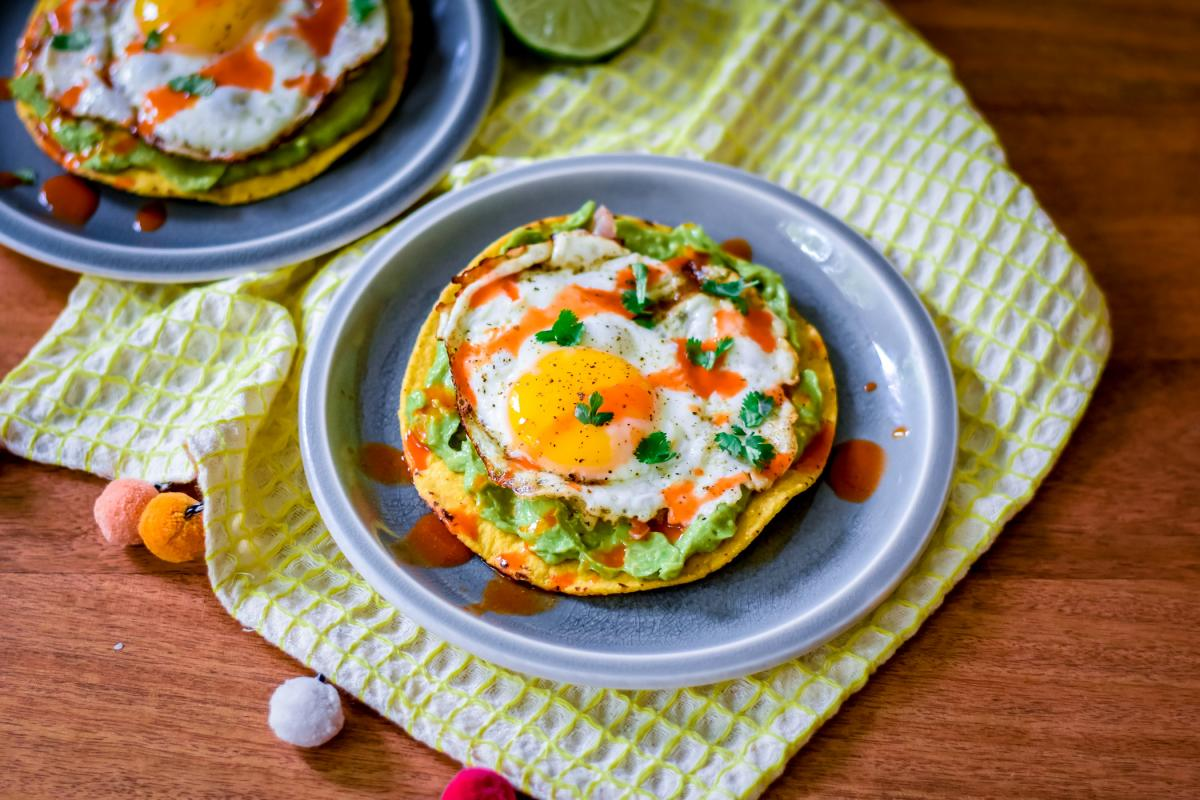fried egg: (476, 265, 750, 499), (87, 1, 314, 119)
